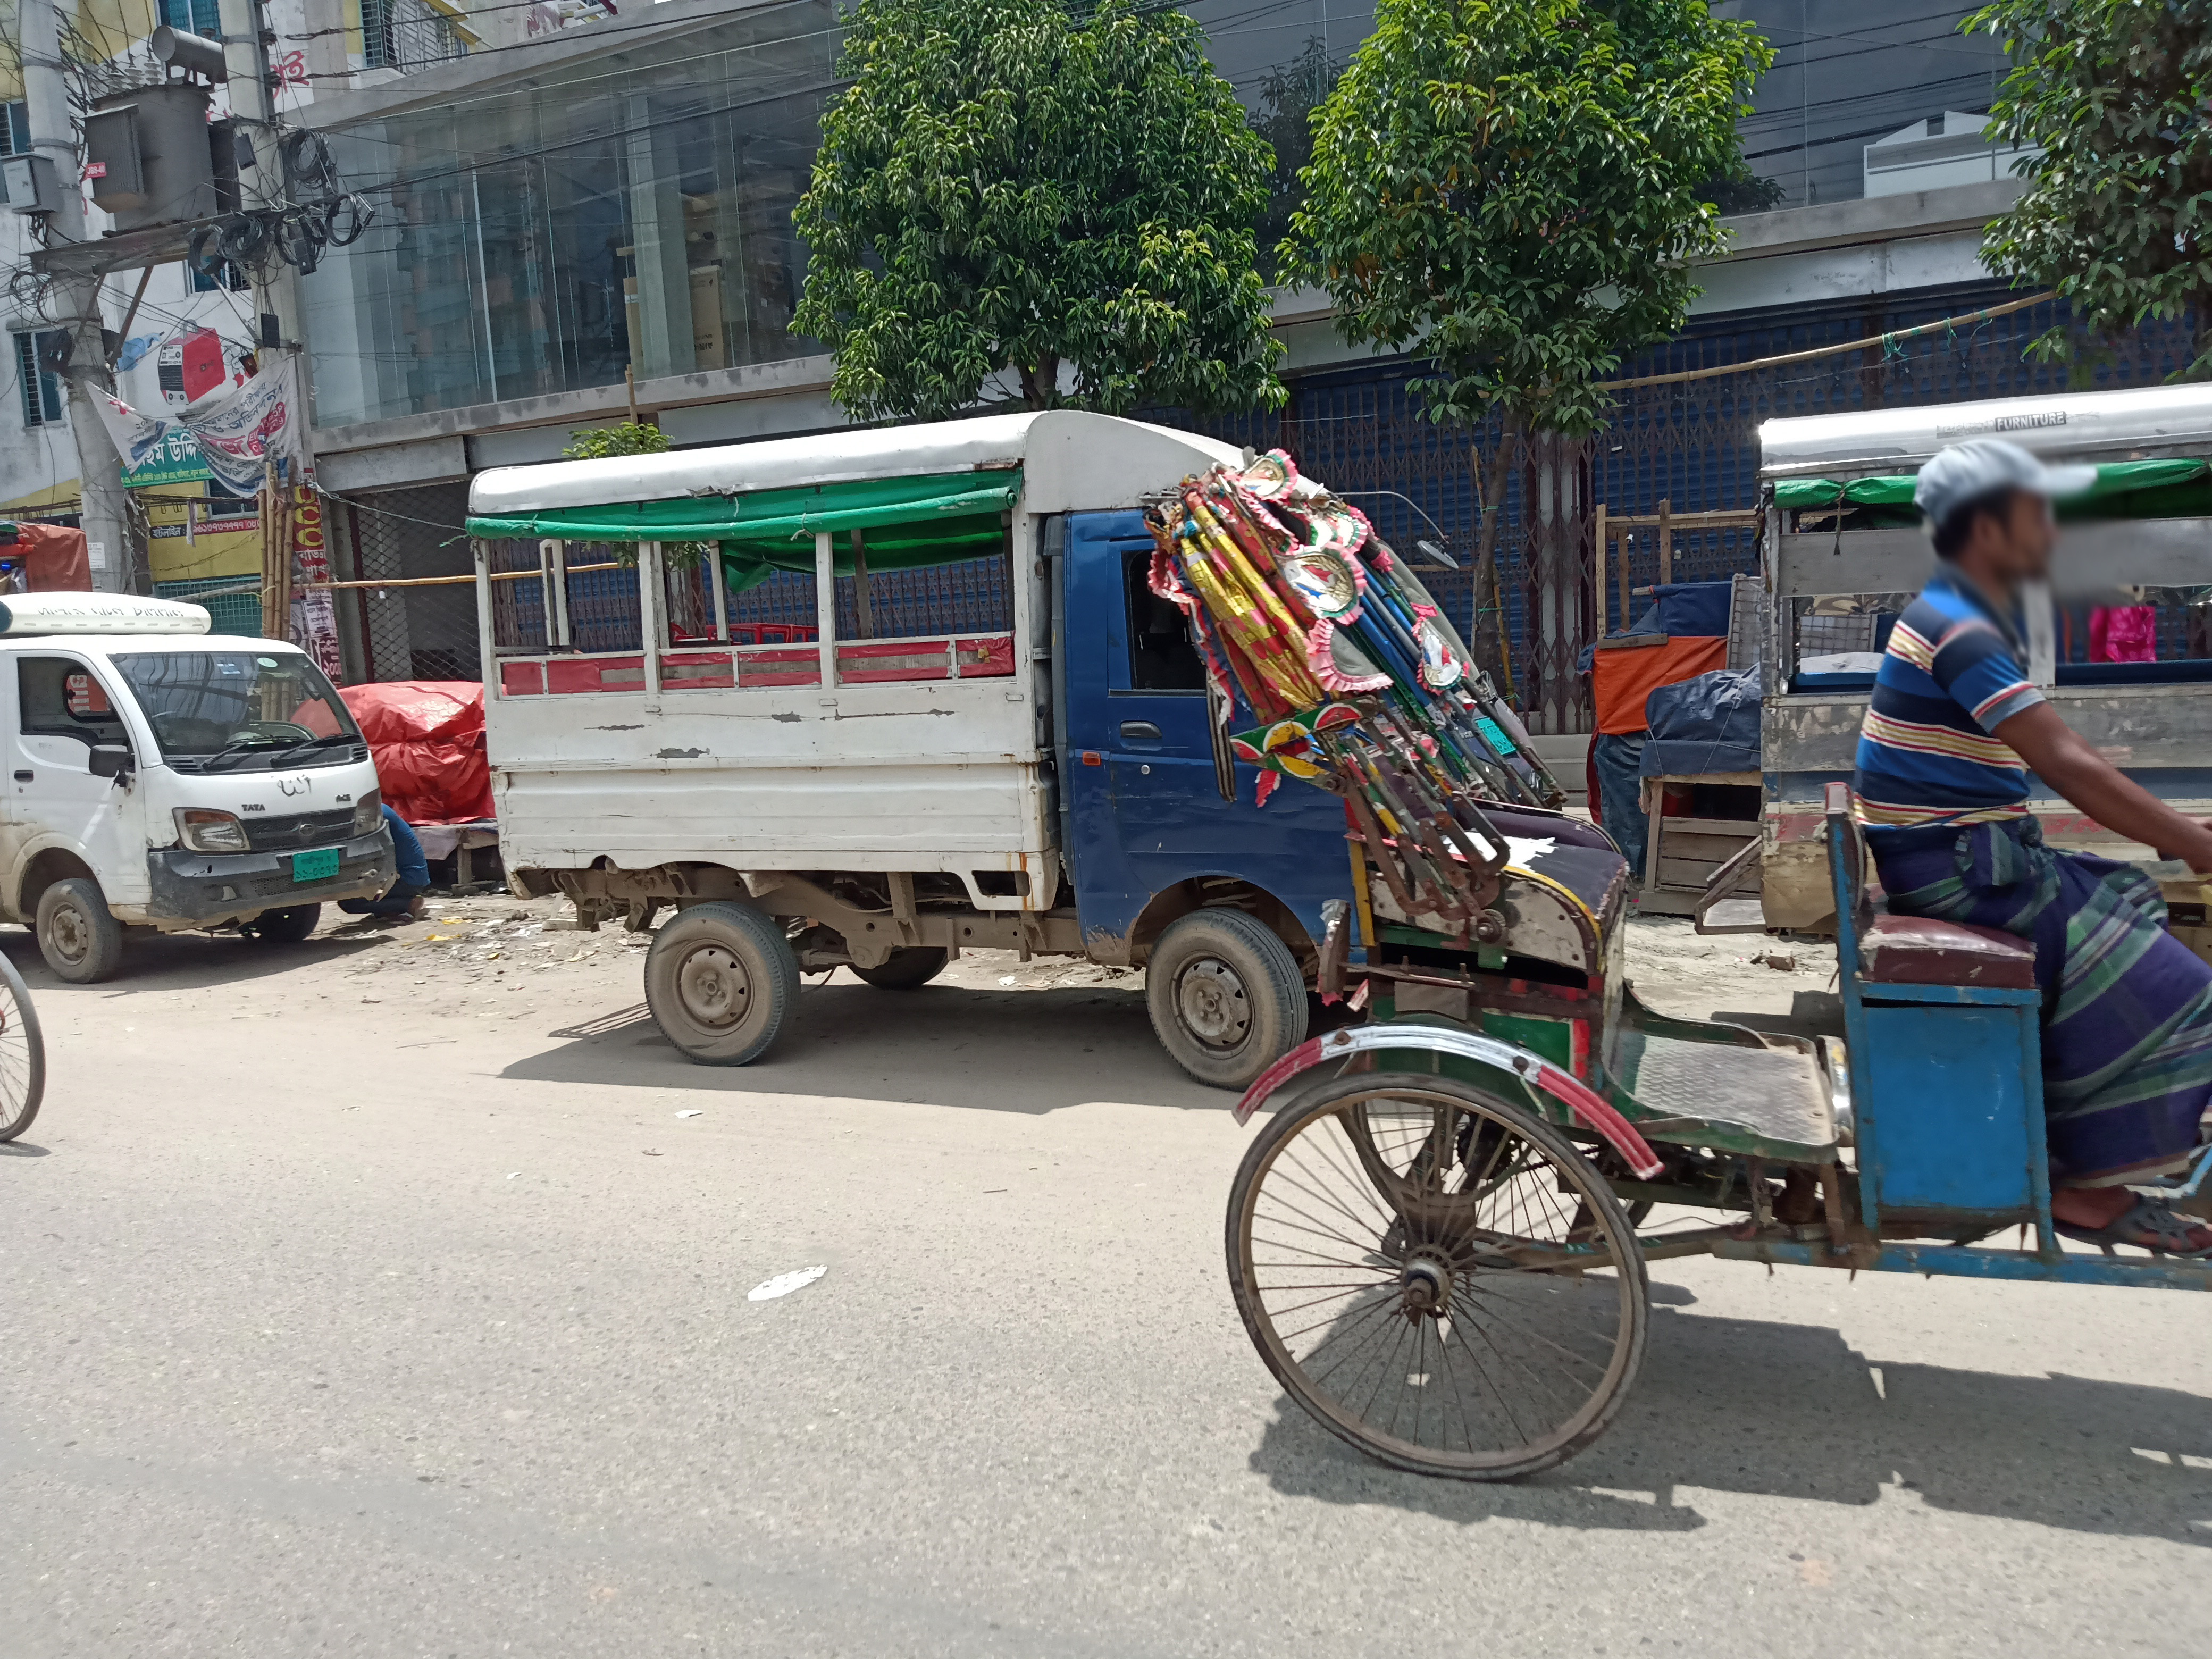leguna: (460, 413, 1533, 1096), (1700, 380, 2210, 945), (0, 591, 394, 985)
rickshaw: (1144, 458, 2212, 1485)
